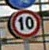limite 10: (9, 9, 40, 38)
